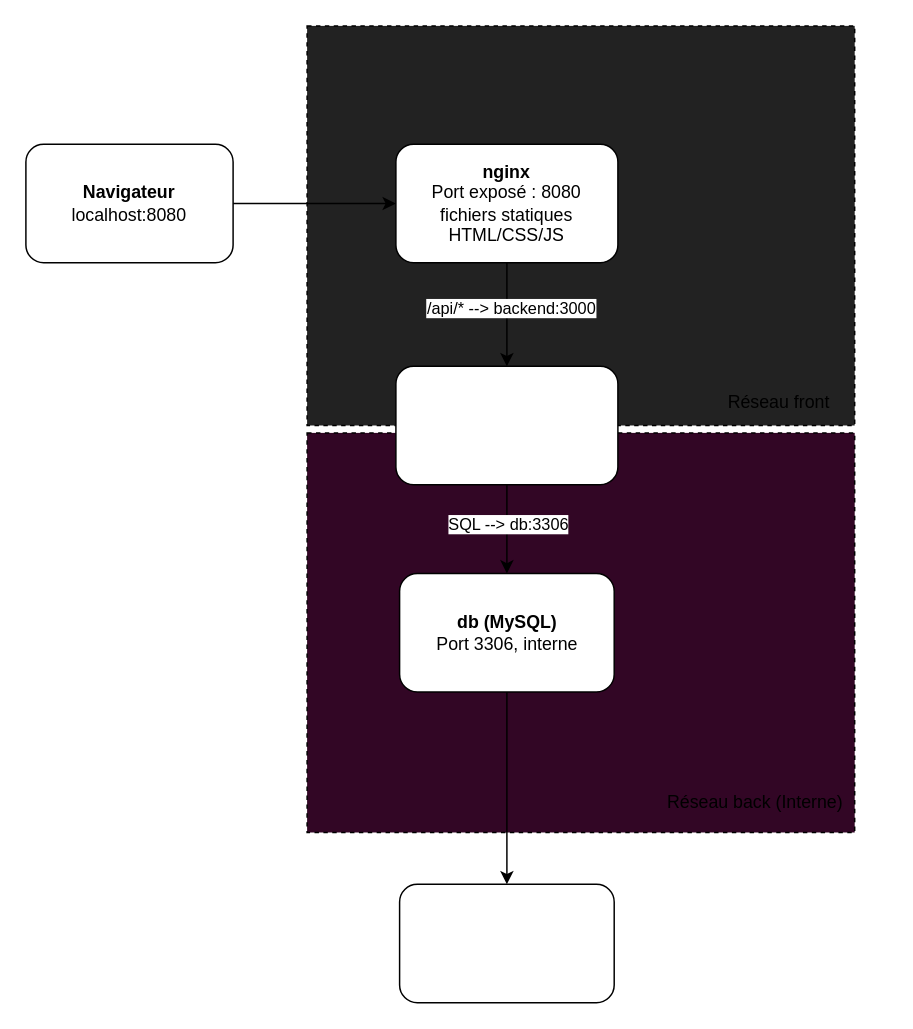
Some shapes in this 913 by 1029 pixel diagram are drawn without their labels. The centre of each missing label's shape, as x and y in pixels:
backend(Node/Express) Port 3000, interne: point 506,425
db_data volume persistant: point 506,943
